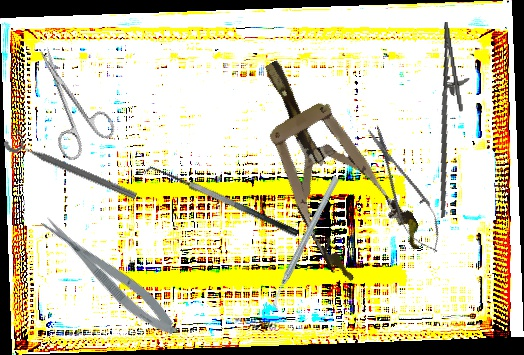Chopper: (234, 174, 379, 313)
Fixation Ring: (1, 126, 143, 204)
Iris Scissors: (18, 35, 121, 164)
Micro Scissor: (36, 207, 183, 344), (356, 119, 452, 260)
Needle Holder: (419, 20, 485, 218)
Spatula Surgical: (142, 157, 300, 250)
Speculum: (228, 38, 429, 291)
